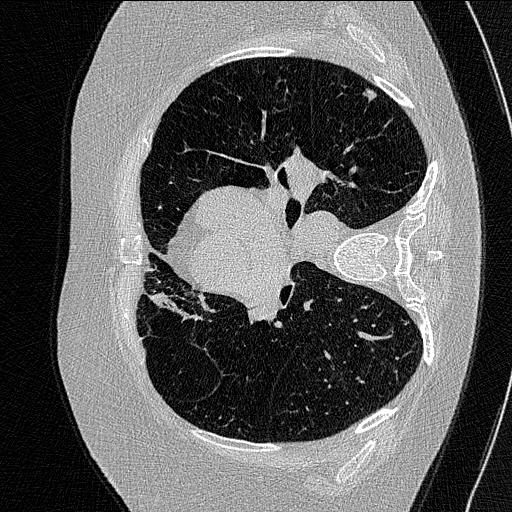nodule: (362, 87, 378, 103)
